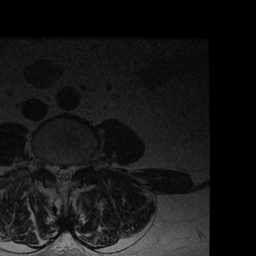CCS_normal: (60, 156, 67, 192)
LFS_stenosis: (75, 155, 85, 175)
LLS_normal: (67, 156, 75, 187)
RFS_normal: (44, 152, 52, 178)
RLS_normal: (52, 155, 59, 185)
